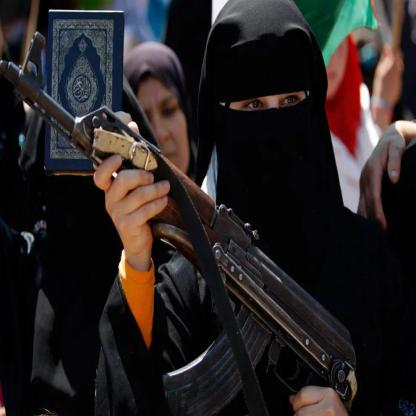rifle: (0, 34, 355, 416)
